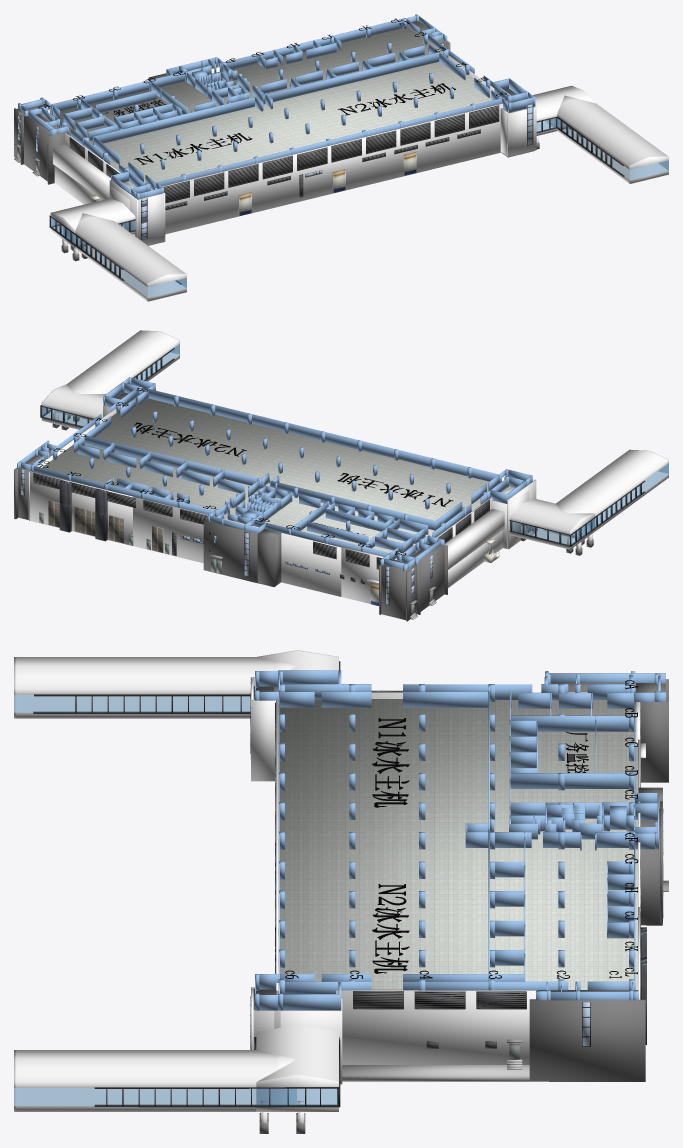
File: cup_4f_mini.gltf
3 views of the same model, one above another, from view 1: azimuth 30°, elevation 25°; view 2: azimuth 150°, elevation 25°; view 3: azimuth 270°, elevation 25° (orthographic). The views are drawn at different scales.
Visible parts, largest first — view 1: cup_dimian_3f, cup_waiguan_3_4, cup_waiguan_3_50, cup_waiguan_3_132, cup_qiang_3f_36, cup_waiguan_3_32, cup_qiang_3f_90, cup_qiang_3f_92, cup_waiguan_3_9, cup_qiang_3f_6, cup_waiguan_3_114, cup_waiguan_3_167 (+18 smaller); view 2: cup_dimian_3f, cup_waiguan_3_172, cup_waiguan_3_50, cup_waiguan_3_132, cup_qiang_3f_36, cup_waiguan_3_32, cup_waiguan_3_106, cup_waiguan_3_171, cup_waiguan_3_114, cup_qiang_3f_90, cup_waiguan_3_9, cup_waiguan_3_168 (+17 smaller); view 3: cup_dimian_3f, cup_waiguan_3_132, cup_waiguan_3_50, cup_waiguan_3_20, cup_waiguan_3_19, cup_waiguan_3_114, cup_waiguan_3_90, cup_waiguan_3_88, cup_waiguan_3_3, cup_qiang_3f_206, cup_qiang_3f_215, cup_waiguan_3_25 (+20 smaller).
Part boxes in pixels (bbox=[...]): cup_dimian_3f: bbox=[51, 28, 491, 190]; cup_waiguan_3_4: bbox=[155, 103, 502, 234]; cup_waiguan_3_50: bbox=[63, 213, 186, 301]; cup_waiguan_3_132: bbox=[545, 95, 668, 183]; cup_qiang_3f_36: bbox=[154, 97, 504, 189]; cup_waiguan_3_32: bbox=[50, 198, 135, 248]; cup_qiang_3f_90: bbox=[262, 52, 440, 104]; cup_qiang_3f_92: bbox=[92, 97, 256, 145]; cup_waiguan_3_9: bbox=[53, 144, 110, 199]; cup_qiang_3f_6: bbox=[219, 19, 402, 72]; cup_waiguan_3_114: bbox=[533, 85, 595, 135]; cup_waiguan_3_167: bbox=[24, 114, 57, 181]; cup_dimian_3f: bbox=[42, 397, 510, 559]; cup_waiguan_3_172: bbox=[133, 497, 341, 596]; cup_waiguan_3_50: bbox=[543, 449, 668, 538]; cup_waiguan_3_132: bbox=[54, 330, 179, 420]; cup_qiang_3f_36: bbox=[146, 388, 501, 482]; cup_waiguan_3_32: bbox=[509, 498, 595, 549]; cup_waiguan_3_106: bbox=[203, 520, 257, 581]; cup_waiguan_3_171: bbox=[29, 471, 133, 545]; cup_waiguan_3_114: bbox=[41, 384, 105, 429]; cup_qiang_3f_90: bbox=[84, 435, 264, 487]; cup_waiguan_3_9: bbox=[444, 508, 504, 569]; cup_waiguan_3_168: bbox=[341, 547, 401, 603]; cup_dimian_3f: bbox=[276, 699, 637, 994]; cup_waiguan_3_132: bbox=[14, 1050, 296, 1111]; cup_waiguan_3_50: bbox=[14, 657, 296, 718]; cup_waiguan_3_20: bbox=[336, 989, 640, 1064]; cup_waiguan_3_19: bbox=[529, 999, 645, 1081]; cup_waiguan_3_114: bbox=[256, 1025, 338, 1111]; cup_waiguan_3_90: bbox=[342, 1065, 529, 1081]; cup_waiguan_3_88: bbox=[640, 701, 668, 782]; cup_waiguan_3_3: bbox=[251, 699, 275, 781]; cup_qiang_3f_206: bbox=[510, 773, 628, 788]; cup_qiang_3f_215: bbox=[510, 715, 628, 731]; cup_waiguan_3_25: bbox=[253, 1009, 340, 1049].
Bounding box in the file's own units: 276 × 27.35 × 179.
24 materials, 11 textured.
